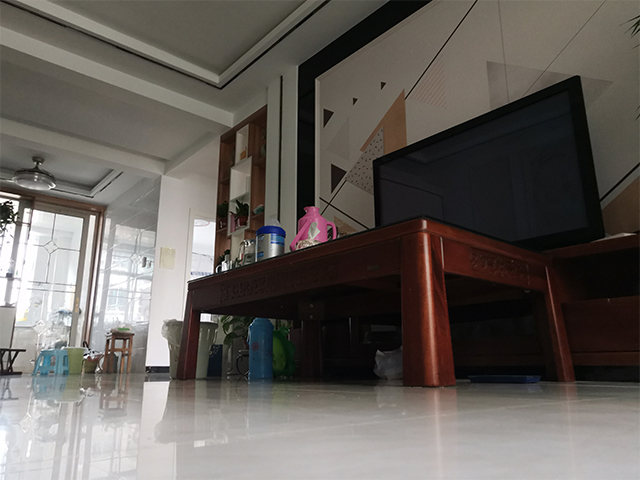stool: (101, 328, 137, 375), (29, 347, 68, 379), (1, 348, 28, 376)
table: (172, 213, 581, 388)
trashcan: (163, 318, 217, 380), (66, 346, 87, 376)
